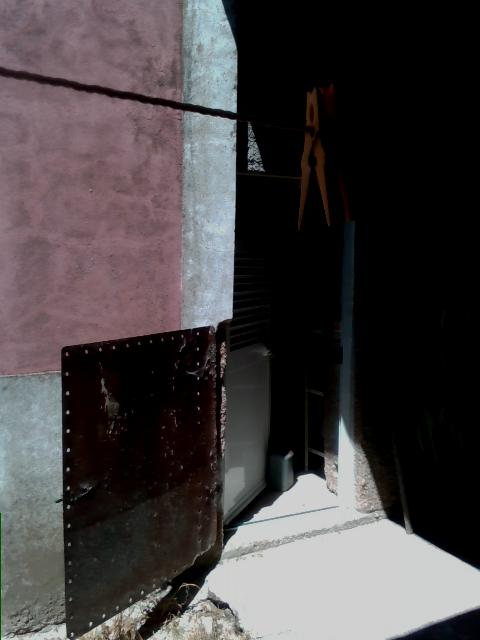semi_door: (214, 168, 357, 551)
